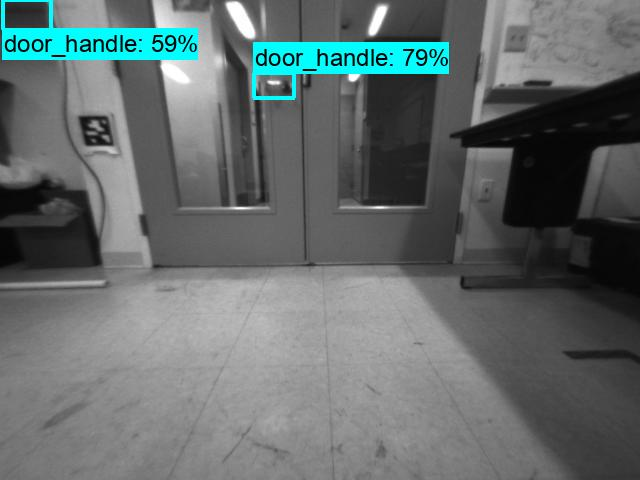door_handle: (252, 72, 293, 97)
